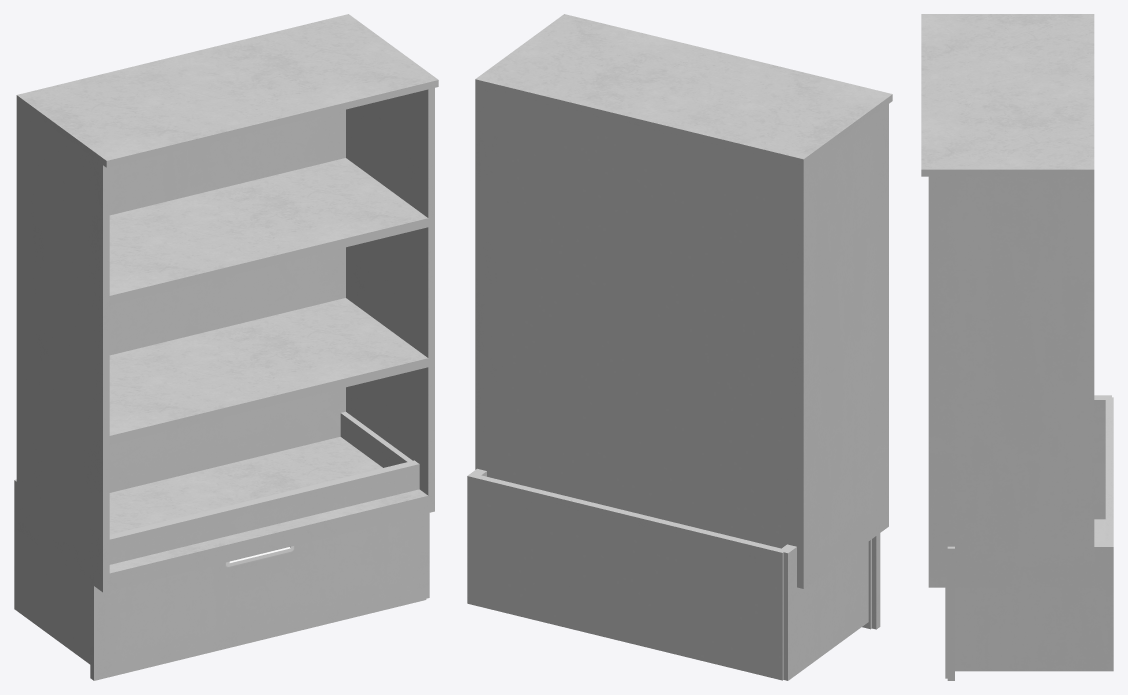
File: FBX_Cabinet_Combine.fbx
3 views of the same model, side by side, from view 1: azimuth 30°, elevation 25°; view 2: azimuth 150°, elevation 25°; view 3: azimuth 270°, elevation 25° (orthographic). The views are drawn at different scales.
Parts seen in each view (by area): view 1: SM_Cabinet, SM_Cabinet_Drawer_03, SM_Cabinet_Drawer_02, SM_Cabinet_Drawer_01, SM_CabinetA_Drawer_01; view 2: SM_Cabinet, SM_CabinetA_Drawer_01, SM_Cabinet_Drawer_02, SM_Cabinet_Drawer_03, SM_Cabinet_Drawer_01; view 3: SM_Cabinet, SM_CabinetA_Drawer_01, SM_Cabinet_Drawer_03, SM_Cabinet_Drawer_01.
Boxes of the visible parts, x1,y1,x2,y2 form: SM_Cabinet: [16, 14, 438, 592]; SM_Cabinet_Drawer_03: [14, 411, 426, 680]; SM_Cabinet_Drawer_02: [14, 416, 385, 664]; SM_Cabinet_Drawer_01: [90, 413, 390, 680]; SM_CabinetA_Drawer_01: [109, 460, 429, 598]; SM_Cabinet: [475, 14, 892, 588]; SM_CabinetA_Drawer_01: [467, 468, 871, 680]; SM_Cabinet_Drawer_02: [482, 475, 868, 680]; SM_Cabinet_Drawer_03: [473, 470, 868, 679]; SM_Cabinet_Drawer_01: [481, 471, 880, 641]; SM_Cabinet: [921, 14, 1094, 587]; SM_CabinetA_Drawer_01: [947, 397, 1113, 680]; SM_Cabinet_Drawer_03: [945, 395, 1111, 643]; SM_Cabinet_Drawer_01: [945, 398, 1105, 678].
Bounding box in the file's own units: 1.01 × 1.52 × 0.5224.
